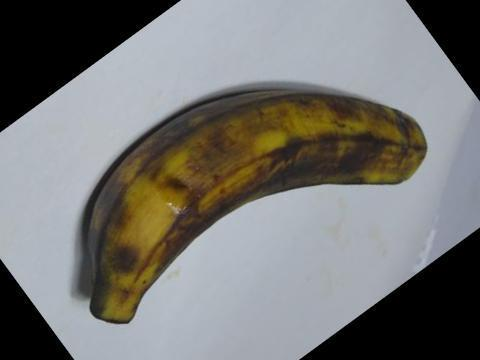overripe: (72, 70, 441, 332)
